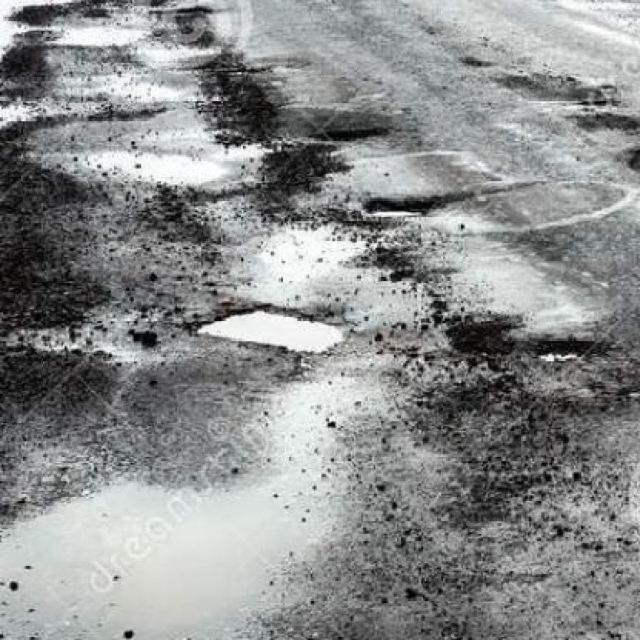pothole: (184, 297, 353, 355), (358, 190, 432, 222)
